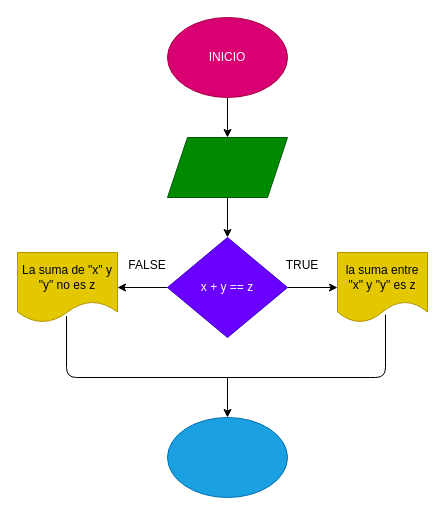
This 445x515 diagram has some shape labels left out. The centre of each missing label's shape, as x and y in pixels:
"FIN" belongs at pixel 227 457.
"x, y, z" belongs at pixel 227 167.
